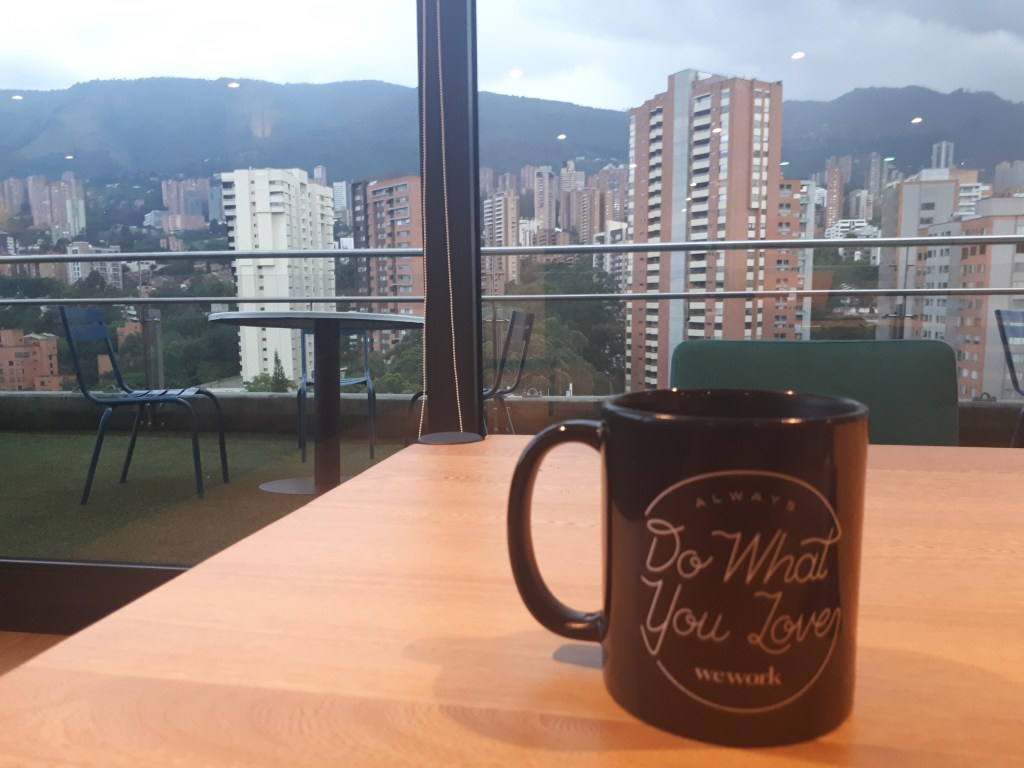wework: (690, 658, 786, 688)
